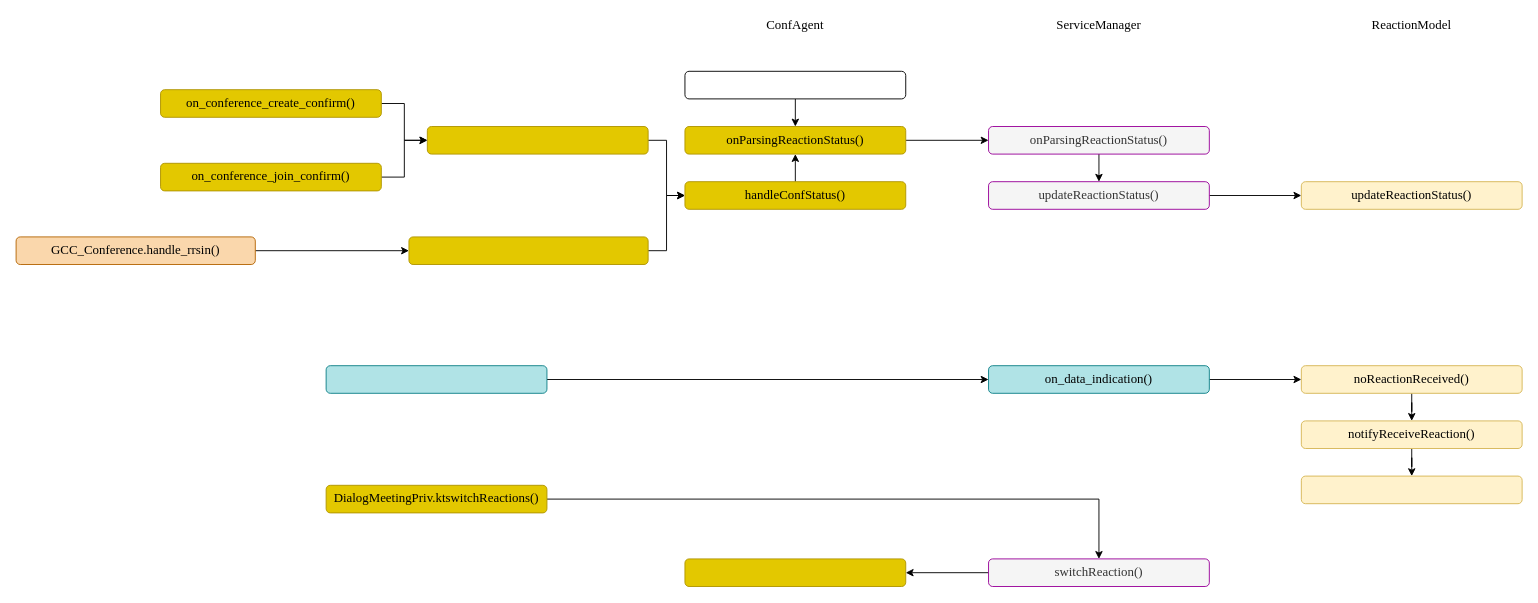
The diagram is 1538 pixels wide and 603 high, and some of its shapes have lost their labels. Each missing label, with the centre of its shape:
GCC_Ape.on_send_data_indication(): point 436,379
handleConferenceResource(): point 537,140
on_conference_parameter_change_indication: point 528,250
parseConfStatus(): point 795,84
receiveReaction(): point 1411,489
send_reaction_action_request(): point 795,572
